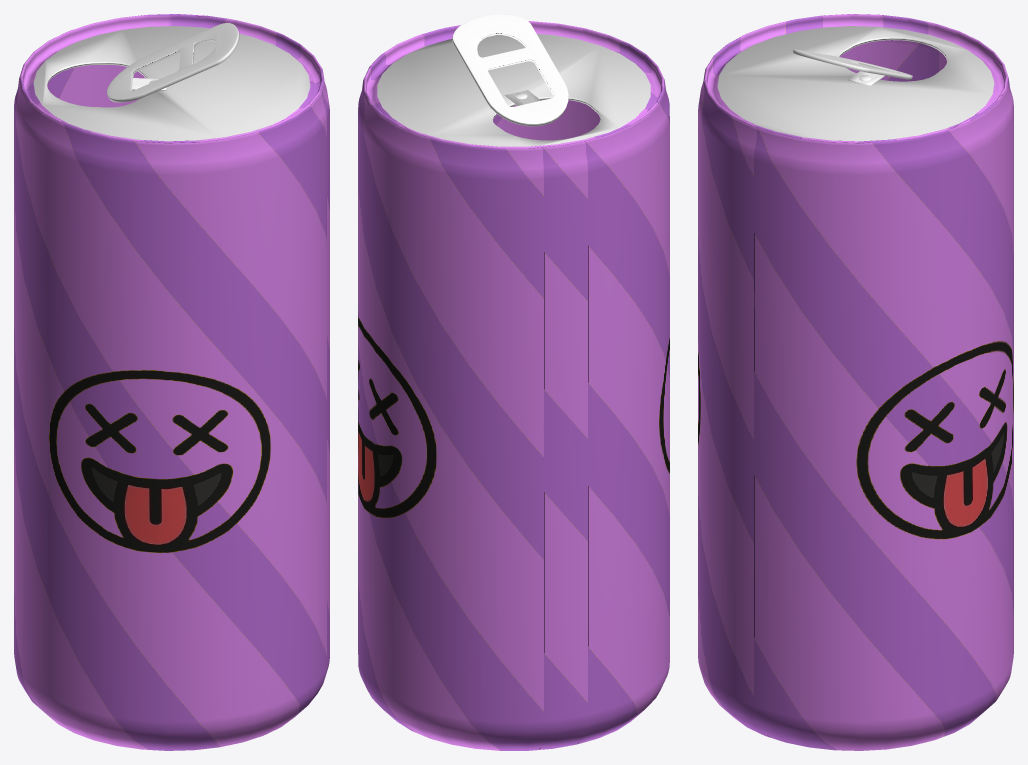
The model's file is can2.glb.
3 renders of one model, left to right at view 1: azimuth 30°, elevation 25°; view 2: azimuth 150°, elevation 25°; view 3: azimuth 270°, elevation 25°, orthographic.
Visible parts, largest first — view 1: Cylinder.003; view 2: Cylinder.003; view 3: Cylinder.003.
Part boxes in pixels (<box>): Cylinder.003: <box>14,14,329,750</box>; Cylinder.003: <box>358,14,669,750</box>; Cylinder.003: <box>698,14,1013,750</box>.
Size of the model in its own units: 2.6 by 6.01 by 2.6.
Materials: 4 (1 with a texture image).
